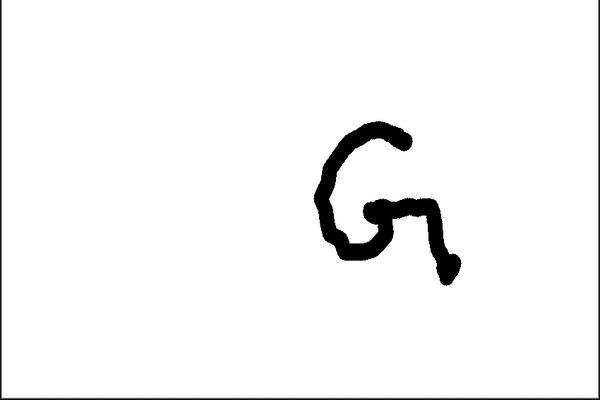G: (312, 119, 470, 294)
